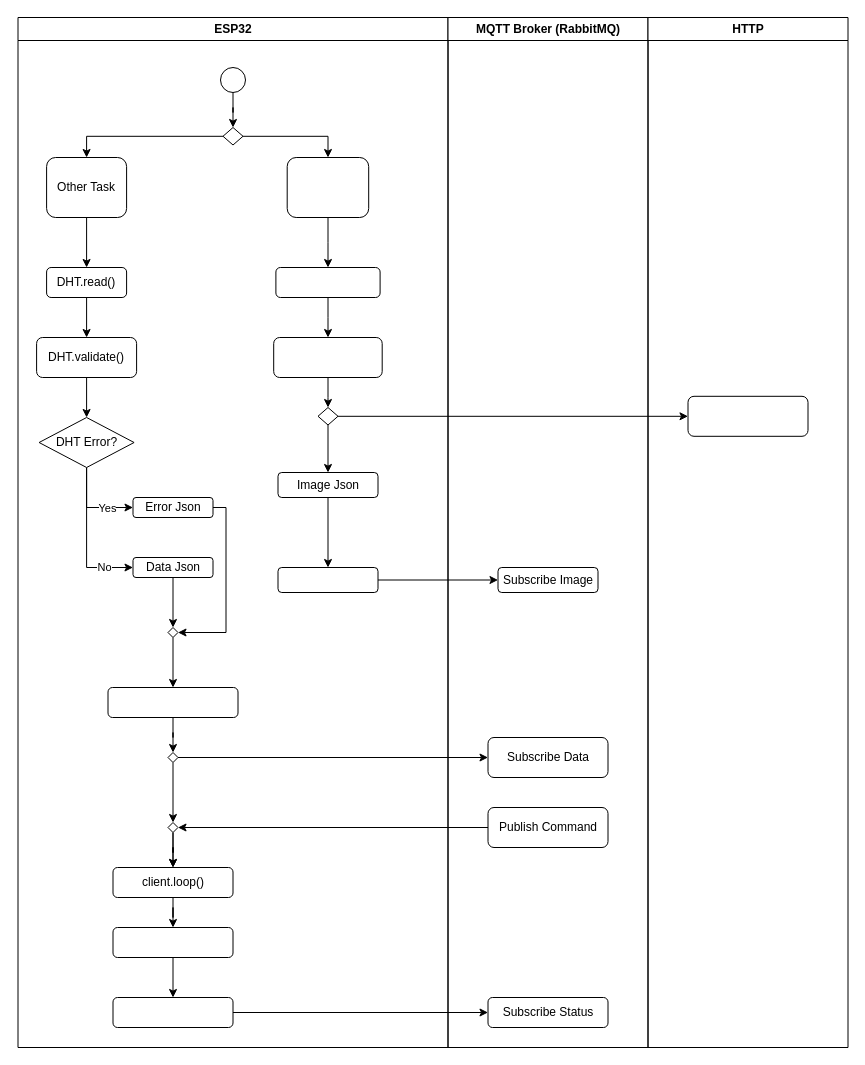
This 865x1065 diagram has some shape labels left out. The box of each missing label's shape, as (x1, y1, x2, y2) in pixels:
Actuators: (112, 926, 233, 958)
Camera Task: (286, 156, 369, 218)
Capture: (275, 266, 380, 298)
Compress: (273, 336, 382, 378)
HTTP Post: (687, 395, 808, 436)
Publish Data: (107, 686, 238, 718)
Publish Image: (277, 566, 378, 592)
Publish Status: (112, 996, 233, 1028)
